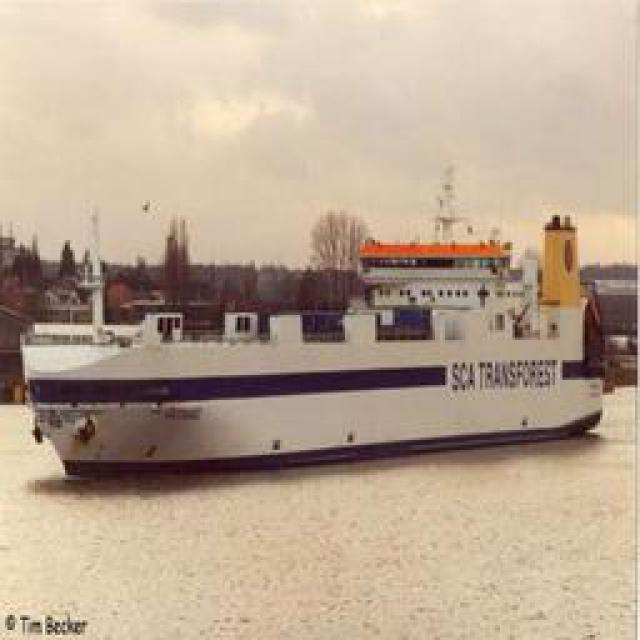Ship: (24, 178, 614, 473)
